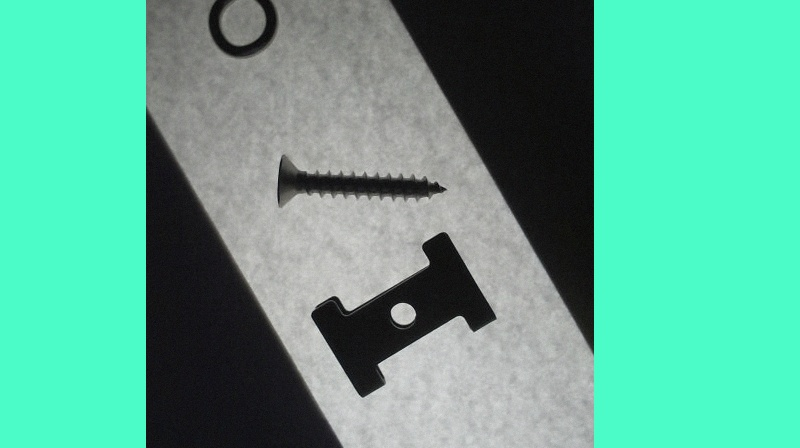O001: (207, 0, 279, 59)
O002: (310, 230, 494, 394)
S001: (273, 151, 447, 212)
